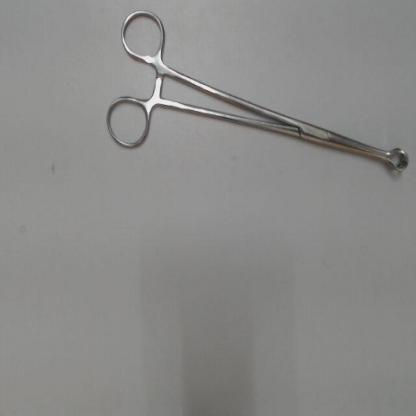8 Babcock Tissue Forceps: (100, 3, 414, 180)
